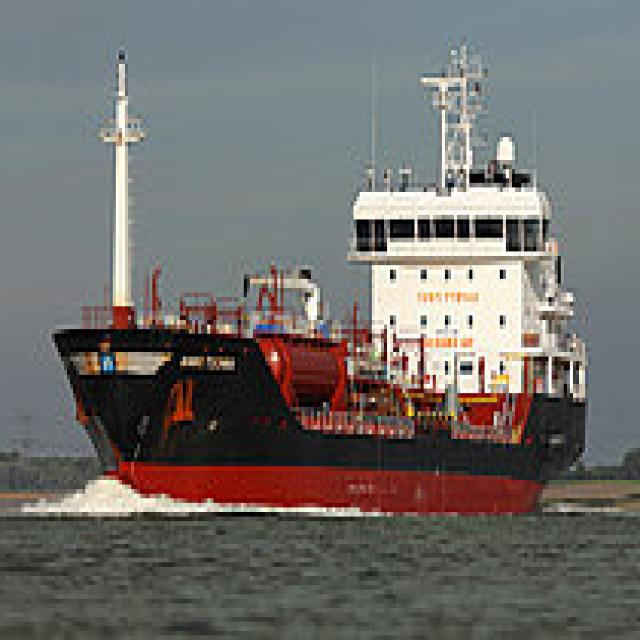Tanker: (49, 28, 594, 508)
